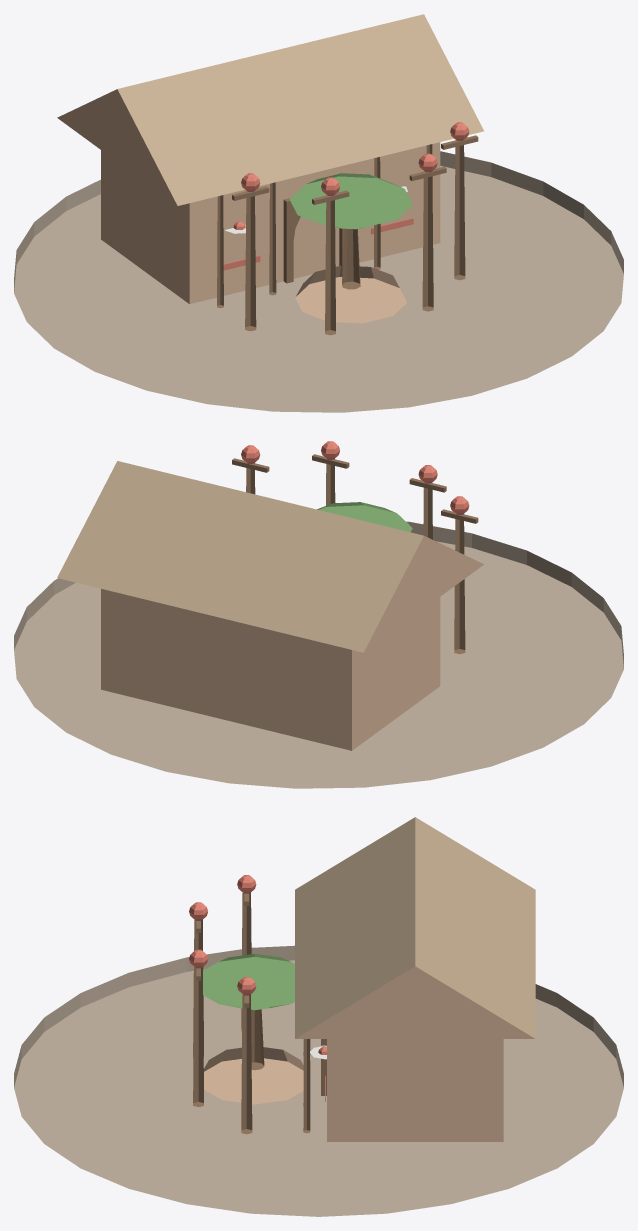
Rendered from tribal_museum_bhopal.glb.
3 renders of one model, top to bottom at view 1: azimuth 30°, elevation 25°; view 2: azimuth 150°, elevation 25°; view 3: azimuth 270°, elevation 25°, orthographic.
Visible parts, largest first — view 1: TribalMuseumBhopal_Root; view 2: TribalMuseumBhopal_Root; view 3: TribalMuseumBhopal_Root.
Part boxes in pixels (x1=…): TribalMuseumBhopal_Root: x1=14, y1=14, x2=623, y2=412; TribalMuseumBhopal_Root: x1=14, y1=441, x2=623, y2=788; TribalMuseumBhopal_Root: x1=14, y1=817, x2=623, y2=1216.
Bounding box in the file's own units: 2.3 × 0.8171 × 2.3.
